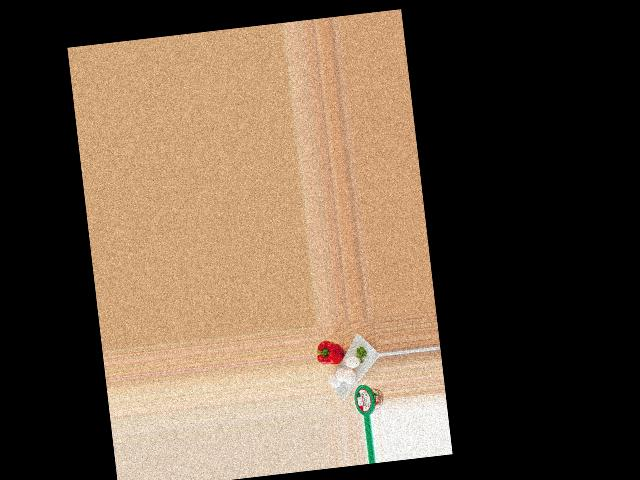bell_pepper: (315, 337, 345, 370)
